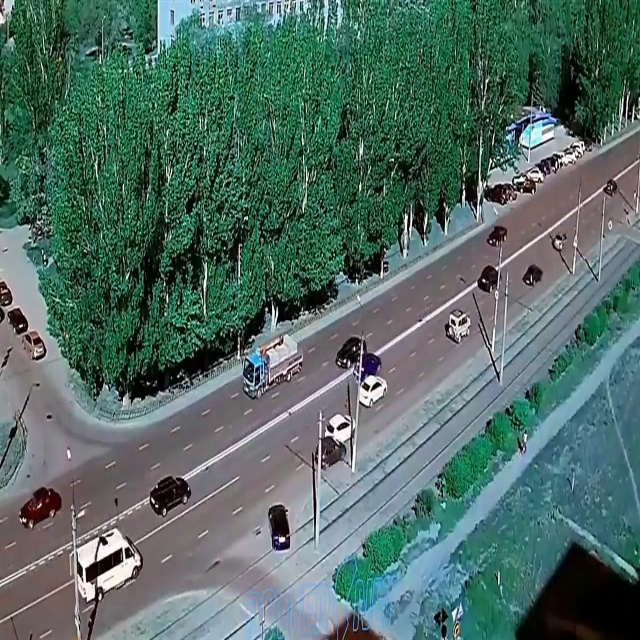acc: (308, 411, 380, 482)
